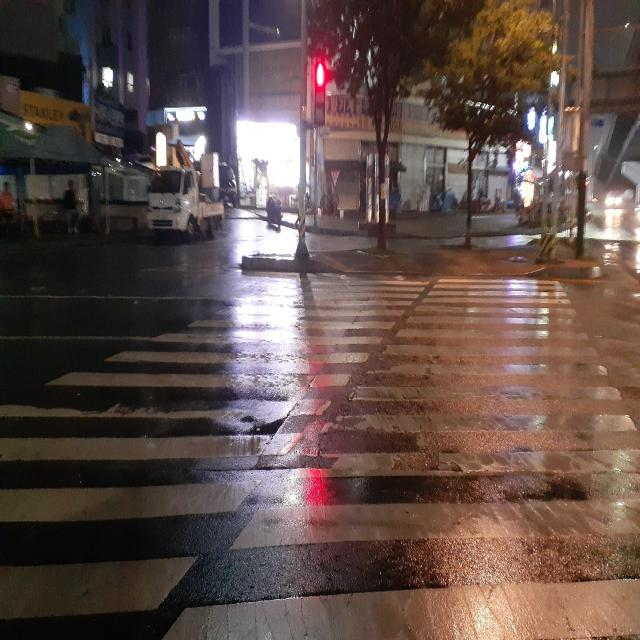빨간불: (313, 56, 326, 124)
횡단보도: (0, 271, 640, 640)
